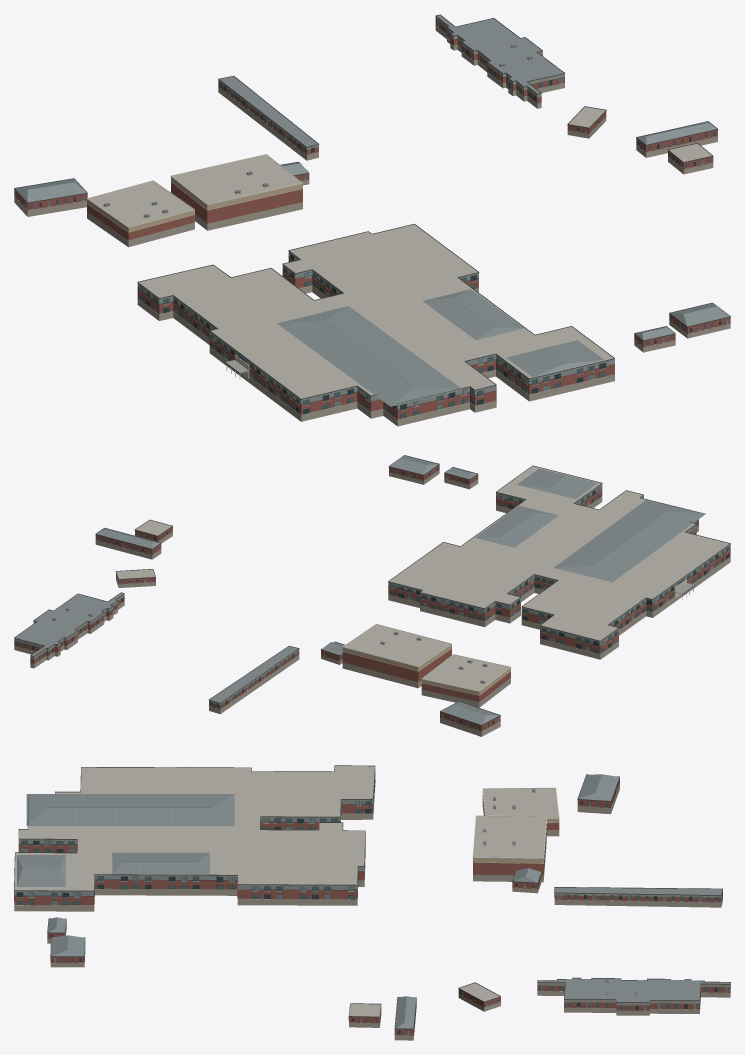
The model's file is oxford-middle.glb.
The picture shows the model from 3 angles, top to bottom: view 1: azimuth 30°, elevation 25°; view 2: azimuth 150°, elevation 25°; view 3: azimuth 270°, elevation 25°; orthographic projection. The views are drawn at different scales.
Visible parts, largest first — view 1: 190639390 | Roof, 190639390 | Shell and foundation, 190639390 | Facades, 313161895 | Shell and foundation, 313161895 | Roof; view 2: 190639390 | Roof, 190639390 | Shell and foundation, 190639390 | Facades, 313161895 | Shell and foundation, 313161895 | Roof; view 3: 190639390 | Roof, 190639390 | Shell and foundation, 190639390 | Facades, 313161895 | Roof, 313161895 | Shell and foundation.
Part boxes in pixels (box(x1,y1,x2,y2)): 190639390 | Roof: box(15, 15, 729, 406); 190639390 | Shell and foundation: box(14, 20, 730, 426); 190639390 | Facades: box(14, 14, 730, 419); 313161895 | Shell and foundation: box(87, 177, 302, 232); 313161895 | Roof: box(103, 17, 564, 217); 190639390 | Roof: box(15, 455, 729, 724); 190639390 | Shell and foundation: box(14, 464, 730, 736); 190639390 | Facades: box(14, 455, 730, 730); 313161895 | Shell and foundation: box(342, 644, 510, 695); 313161895 | Roof: box(14, 594, 487, 705); 190639390 | Roof: box(14, 766, 730, 1028); 190639390 | Shell and foundation: box(14, 778, 730, 1040); 190639390 | Facades: box(14, 765, 730, 1034); 313161895 | Roof: box(483, 791, 730, 1005); 313161895 | Shell and foundation: box(473, 792, 559, 863).
Bounding box in the file's own units: 258 × 12.72 × 293.
